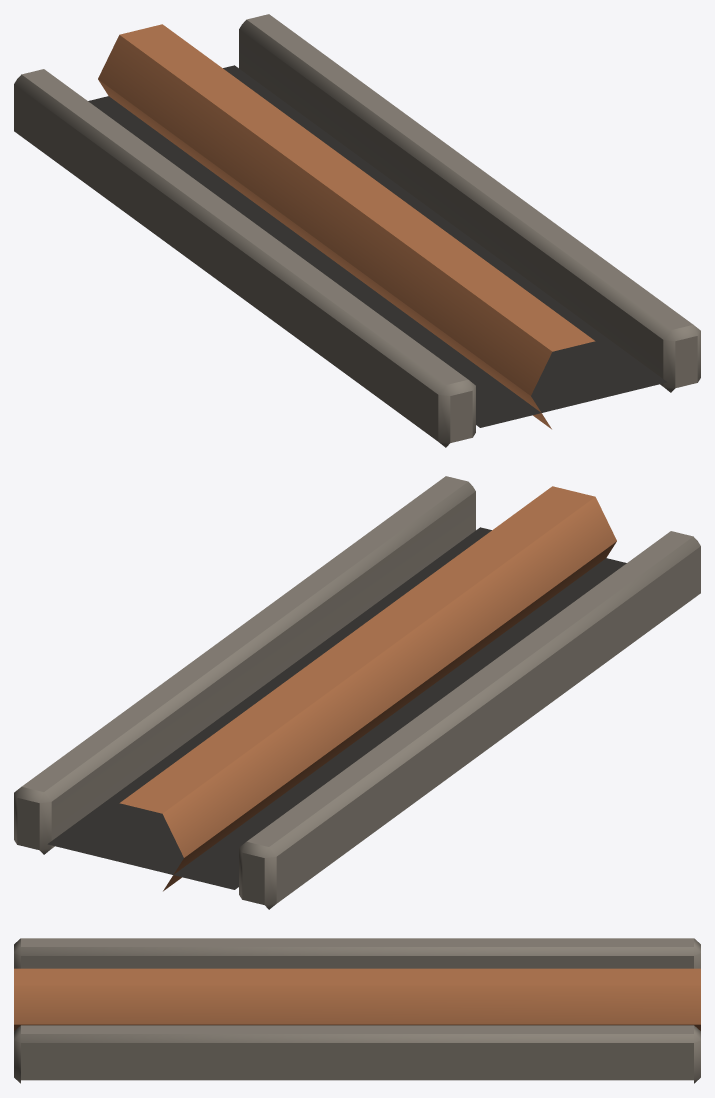
File: ruins-pc-arm.glb
The picture shows the model from 3 angles, top to bottom: view 1: azimuth 30°, elevation 25°; view 2: azimuth 150°, elevation 25°; view 3: azimuth 270°, elevation 25°; orthographic projection. The views are drawn at different scales.
Visible parts, largest first — view 1: 0_ruins_pc_arm; view 2: 0_ruins_pc_arm; view 3: 0_ruins_pc_arm.
Boxes of the visible parts, <box> form: 0_ruins_pc_arm: <box>14,14,700,447</box>; 0_ruins_pc_arm: <box>14,476,700,909</box>; 0_ruins_pc_arm: <box>14,938,700,1083</box>.
Size of the model in its own units: 0.14 by 0.0398 by 0.4.
